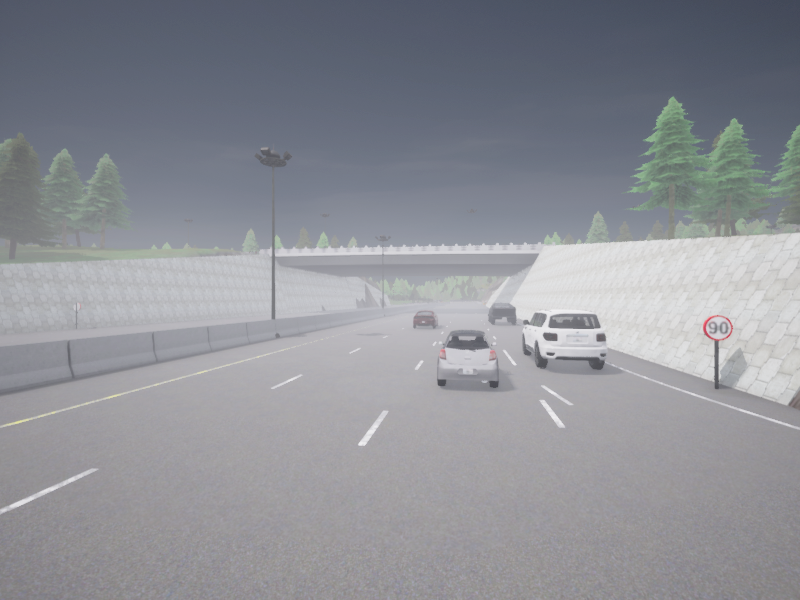vehicle: (522, 310, 607, 368), (437, 330, 498, 387), (488, 303, 516, 324), (413, 310, 438, 328)
